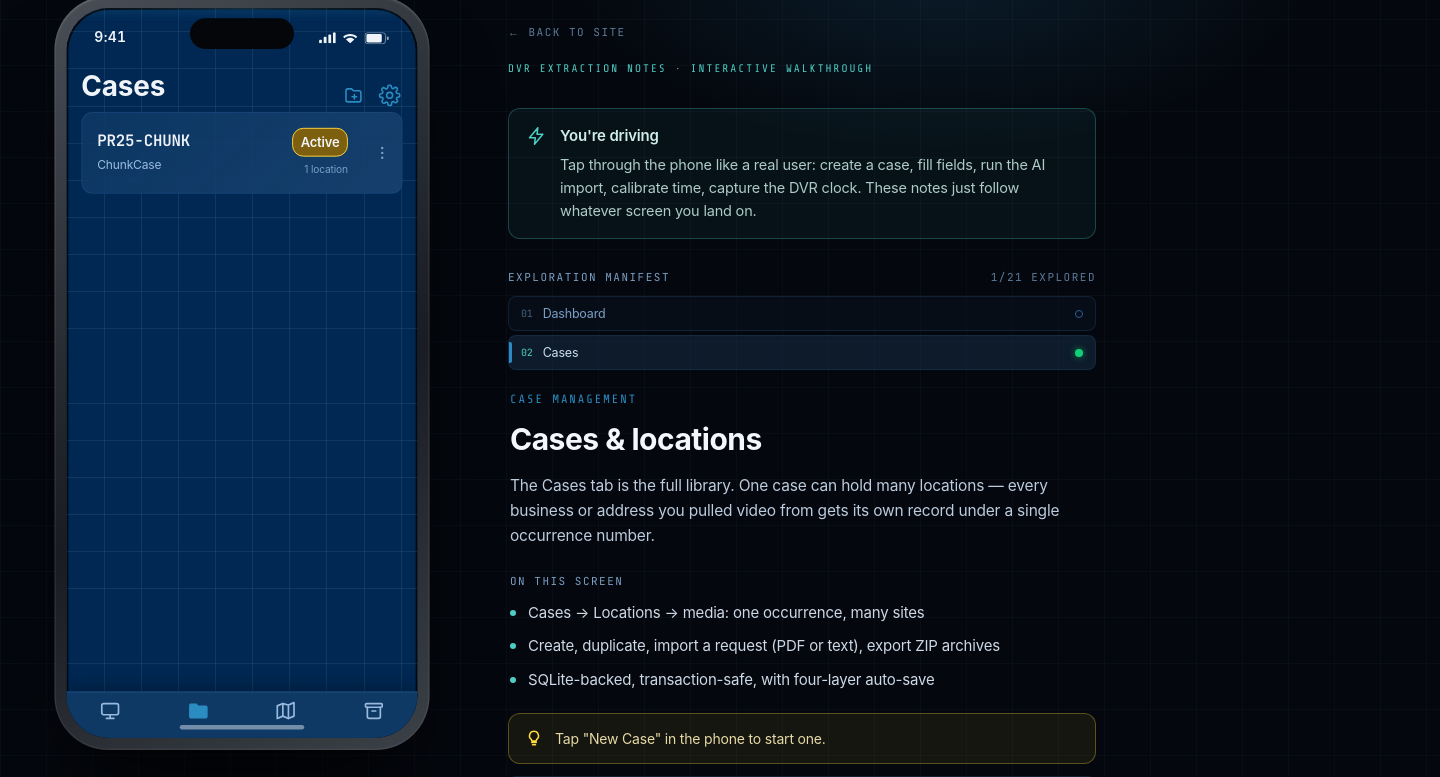
DemoExperience — Export Map, builder chunk unavailable › says the builder could not be loaded instead of failing silently
Click the button named "Map".
click(286, 712)  # box 242,698 -> 330,727
(page scrolled)
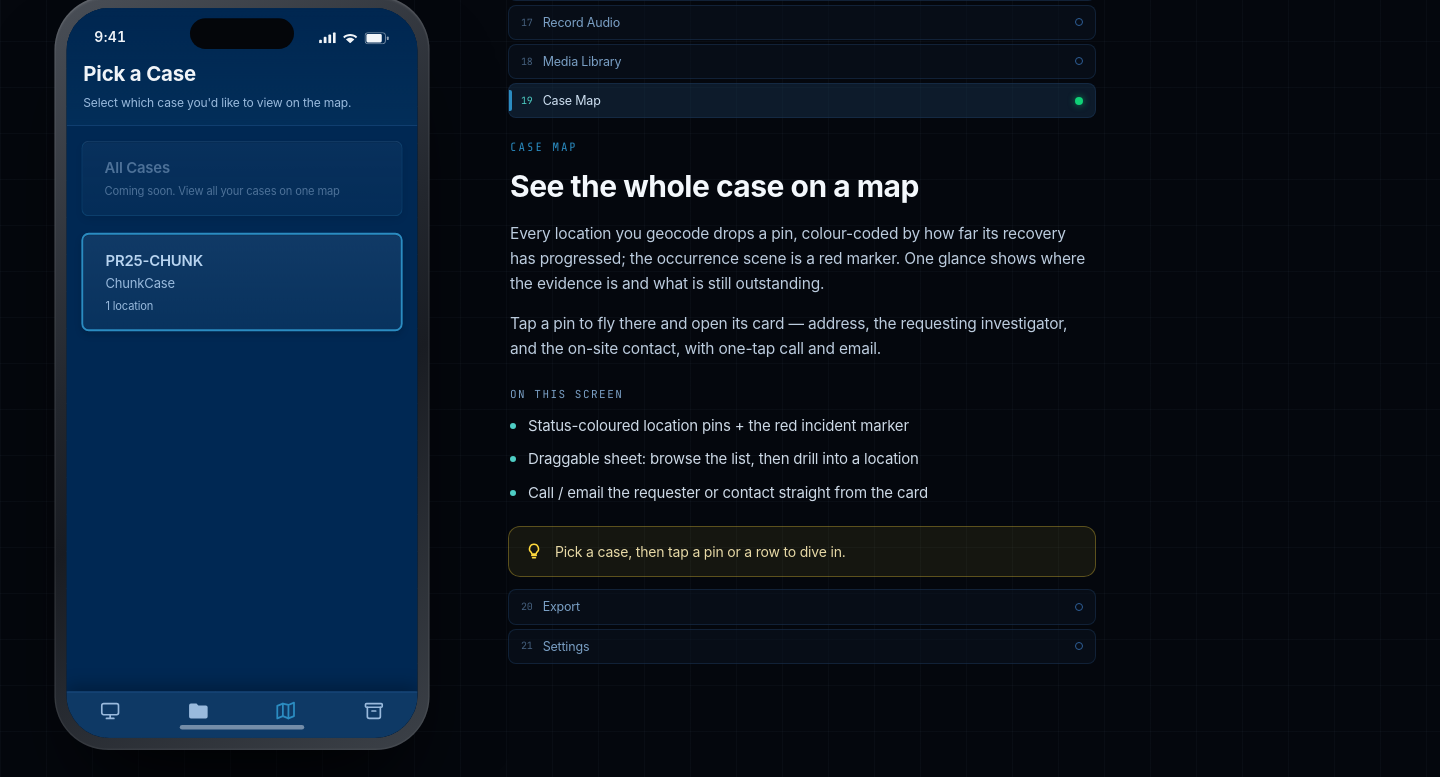
Click the text "ChunkCase".
click(140, 283)  # box 106,275 -> 175,291
(page scrolled)
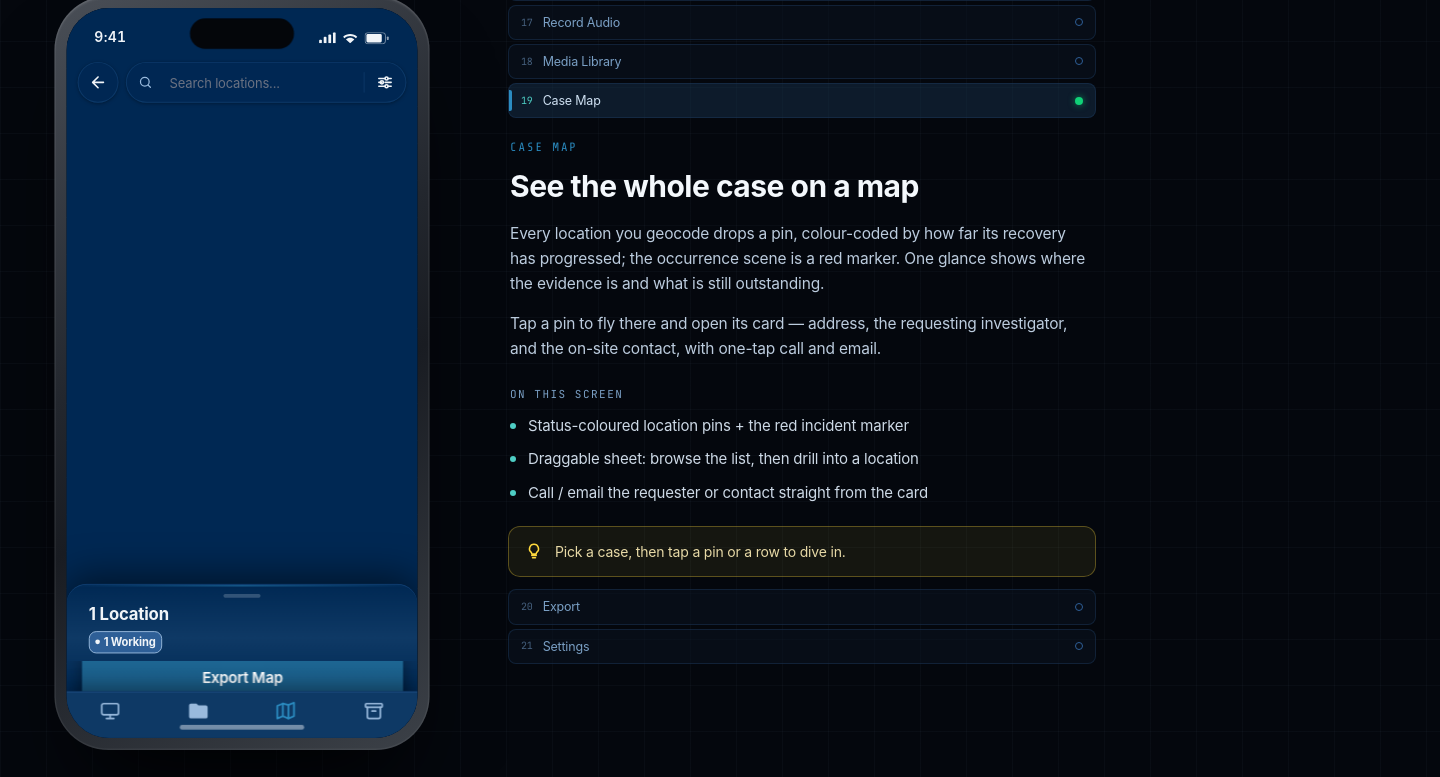
Click the button with test id "export-map-button".
click(242, 676)  # box 81,649 -> 403,704
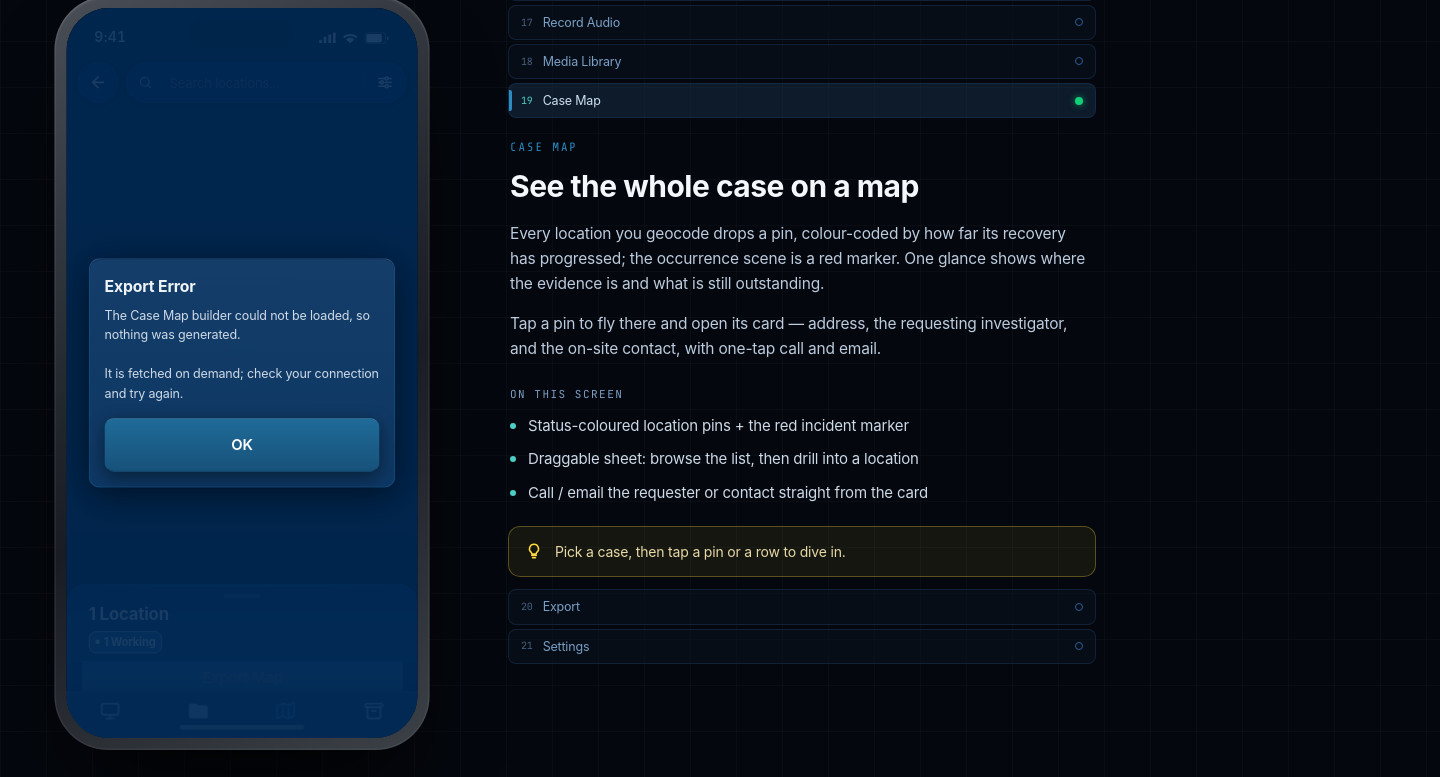
Check: the dialog shows "Export Error", box 105,276 -> 195,295
Check: the dialog shows "The Case Map builder could not be loaded, so nothing was generated.", box 105,307 -> 379,400
Check: the dialog shows "check your connection and try again", box 105,307 -> 379,400
